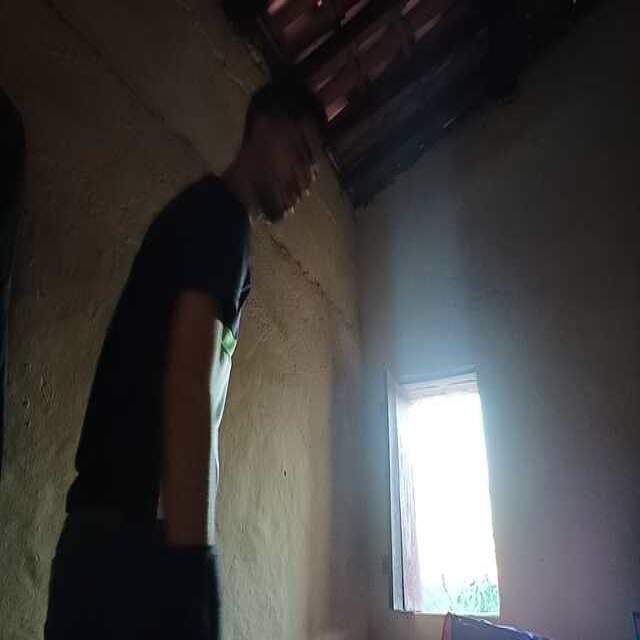colete: (438, 604, 555, 640)
pessoa: (67, 84, 321, 640)
